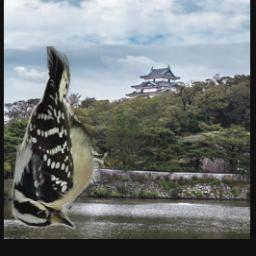Woodpecker: (10, 47, 124, 233)
